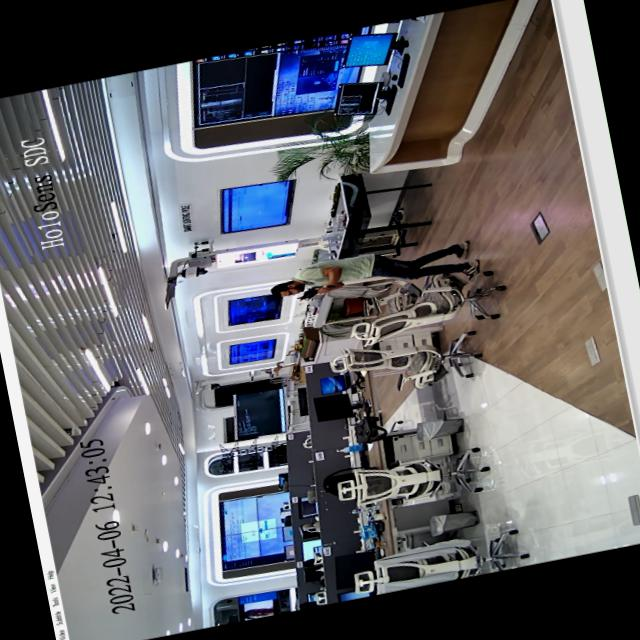long weapon: (294, 280, 332, 303)
